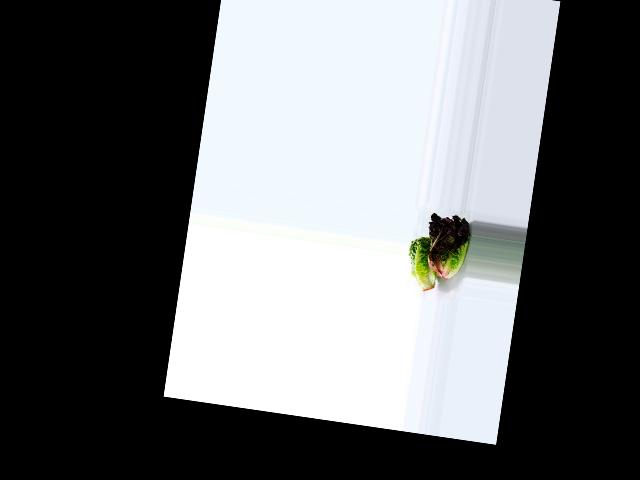lettuce: (403, 233, 443, 294)
